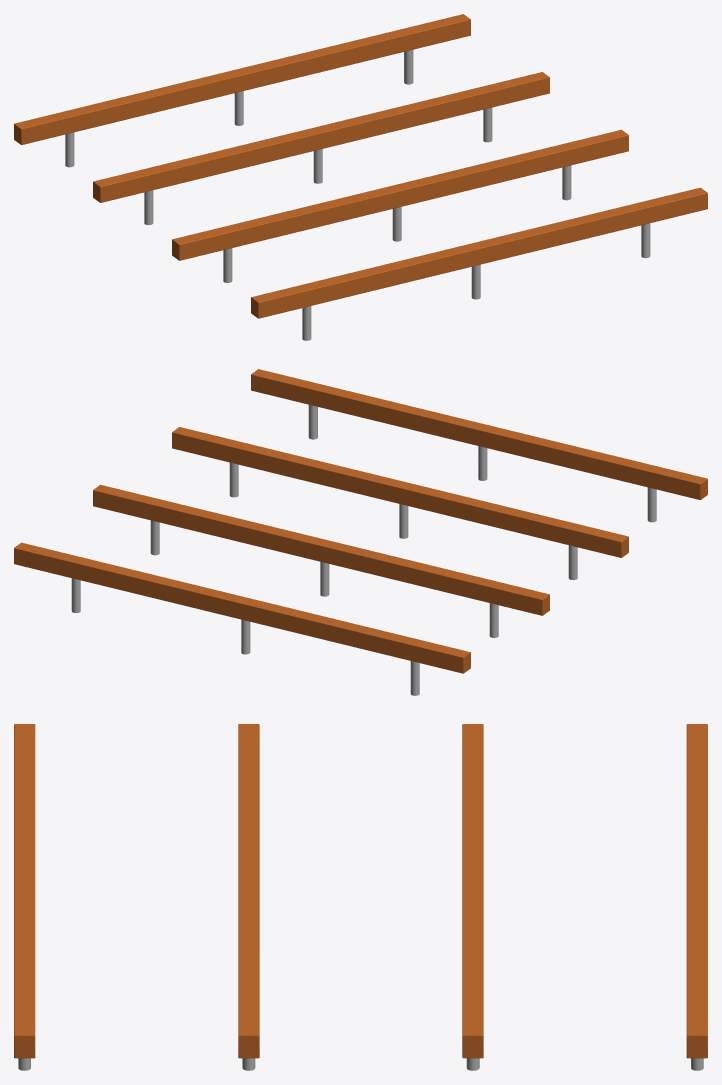
File: stacker_landing_lift.glb
The picture shows the model from 3 angles, top to bottom: view 1: azimuth 30°, elevation 25°; view 2: azimuth 150°, elevation 25°; view 3: azimuth 270°, elevation 25°; orthographic projection. The views are drawn at different scales.
Parts seen in each view (by area): view 1: LandingLift, LandingLiftRods; view 2: LandingLift, LandingLiftRods; view 3: LandingLift, LandingLiftRods.
Boxes of the visible parts, box(x1,y1,x2,y2) form: LandingLift: box(14, 14, 707, 318); LandingLiftRods: box(65, 49, 650, 340); LandingLift: box(14, 369, 707, 673); LandingLiftRods: box(71, 404, 656, 695); LandingLift: box(14, 724, 707, 1058); LandingLiftRods: box(18, 1058, 703, 1070).
Bounding box in the file's own units: 3.45 × 0.38 × 3.25.
